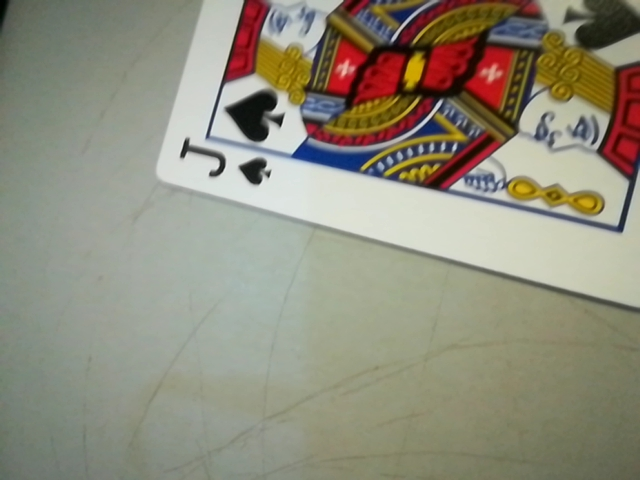ht j: (166, 122, 287, 201)
